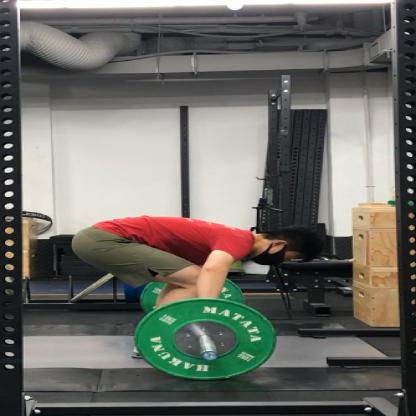Barbell: (130, 295, 284, 382)
